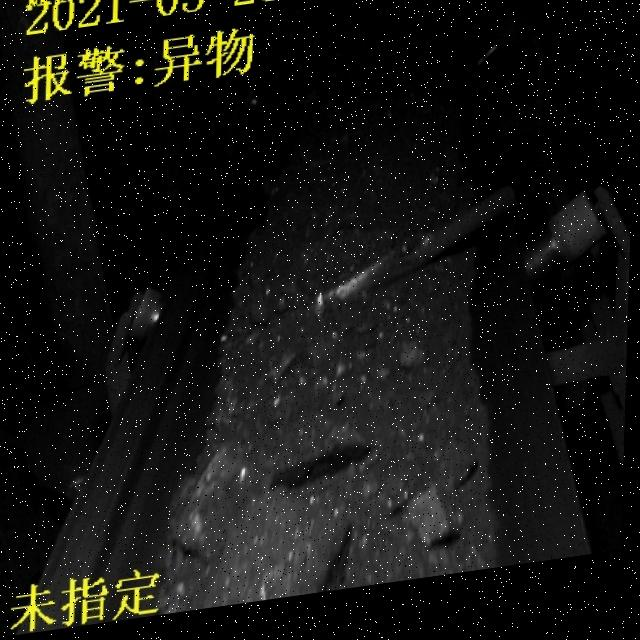bolt: (318, 205, 512, 326)
large_sized_coal: (221, 494, 350, 614), (170, 449, 258, 561), (279, 420, 372, 491), (411, 495, 460, 564)
